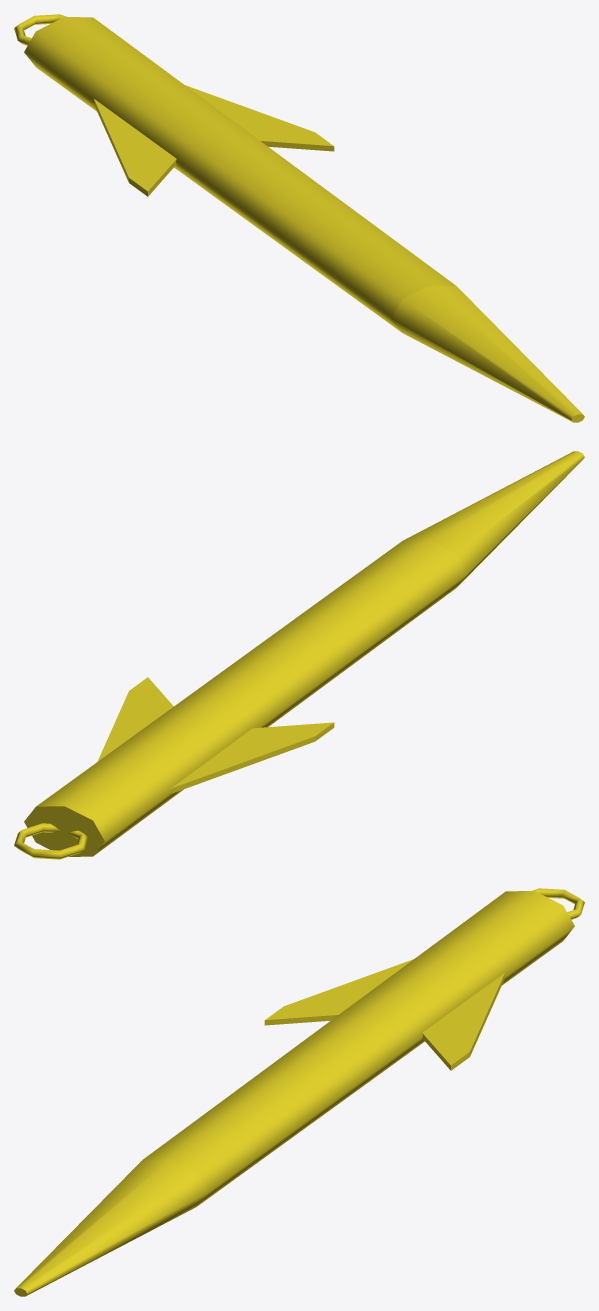
File: fighter-dart-101.glb
3 views of the same model, one above another, from view 1: azimuth 30°, elevation 25°; view 2: azimuth 150°, elevation 25°; view 3: azimuth 330°, elevation 25° (orthographic).
Bounding box in the file's own units: 0.3934 × 0.1027 × 2.
